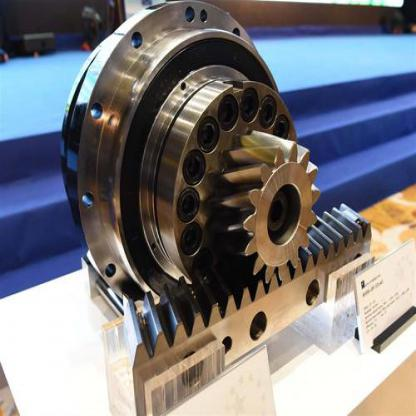FOD: (215, 128, 323, 290)
